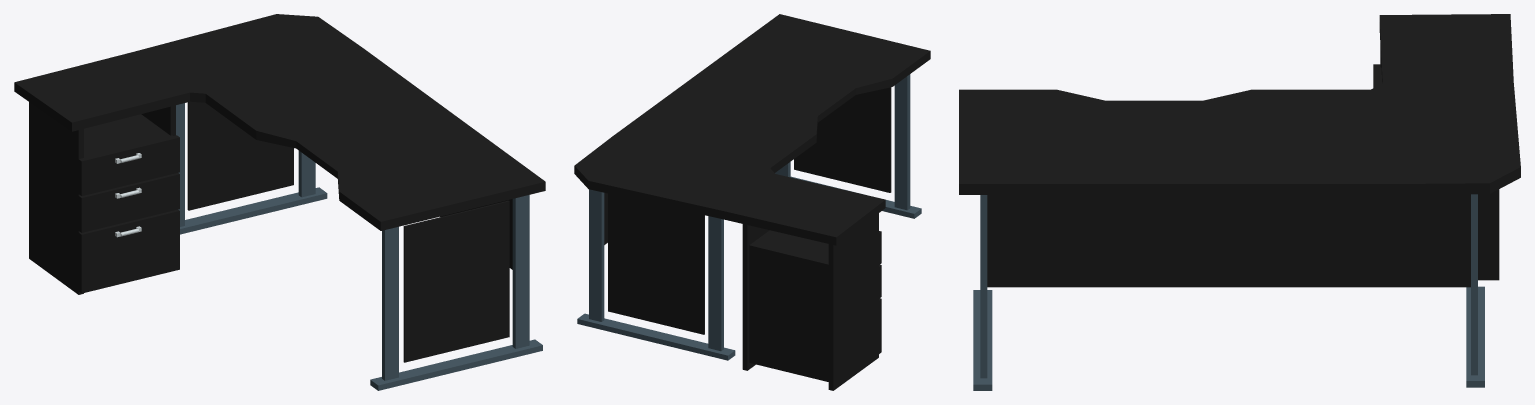
The model's file is Desk.glb.
The picture shows the model from 3 angles, left to right: view 1: azimuth 30°, elevation 25°; view 2: azimuth 150°, elevation 25°; view 3: azimuth 270°, elevation 25°; orthographic projection. The views are drawn at different scales.
Visible parts, largest first — view 1: group2123122164, group1534087578, group122835016, group2004549417, group903319112, group1886652203, group1204164771, group18327390, group1430384365, group1882489091, group60323326, group1615802795; view 2: group2123122164, group122835016, group590239939, group2004549417, group1534087578, group1430384365, group1615802795, group60323326, group1882489091; view 3: group2123122164, group1859014562, group122835016, group1615802795, group1882489091, group18327390.
Part boxes in pixels (x1,y1,x2,y2): group2123122164: (14,14,545,230); group1534087578: (403,200,509,362); group122835016: (176,101,327,234); group2004549417: (29,102,83,294); group903319112: (78,209,179,293); group1886652203: (78,135,179,195); group1204164771: (78,173,179,232); group18327390: (512,195,529,348); group1430384365: (382,226,398,380); group1882489091: (370,339,542,390); group60323326: (84,114,172,157); group1615802795: (141,105,175,135); group2123122164: (574,14,930,245); group122835016: (577,189,735,360); group590239939: (749,243,828,381); group2004549417: (828,213,878,390); group1534087578: (794,87,891,192); group1430384365: (894,74,910,210); group1615802795: (742,224,769,370); group60323326: (752,230,828,261); group1882489091: (791,176,921,218); group2123122164: (959,14,1520,194); group1859014562: (987,194,1470,287); group122835016: (1466,194,1484,387); group1615802795: (1478,189,1499,280); group1882489091: (973,290,992,390); group18327390: (980,195,987,378).
Bounding box in the file's own units: 1.71 × 0.9499 × 2.36.
